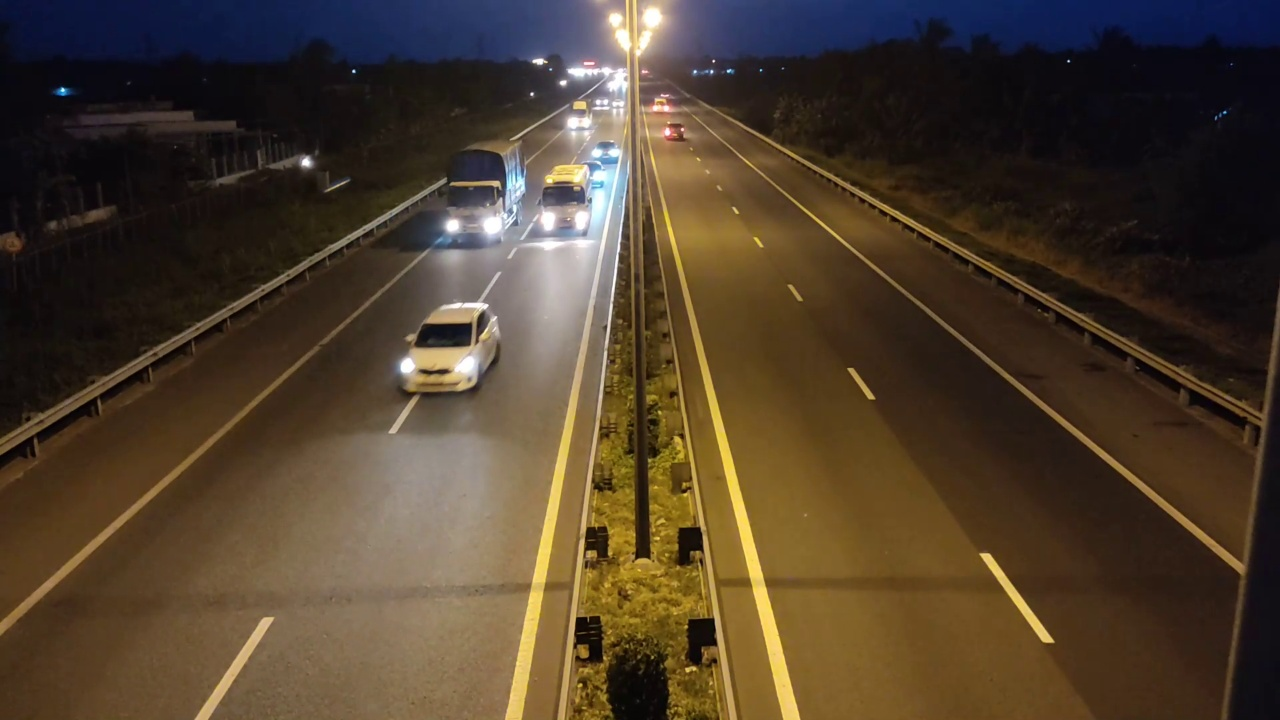bus: (534, 157, 597, 237)
car: (395, 300, 501, 394), (661, 123, 687, 141)
truck: (438, 135, 527, 248)
